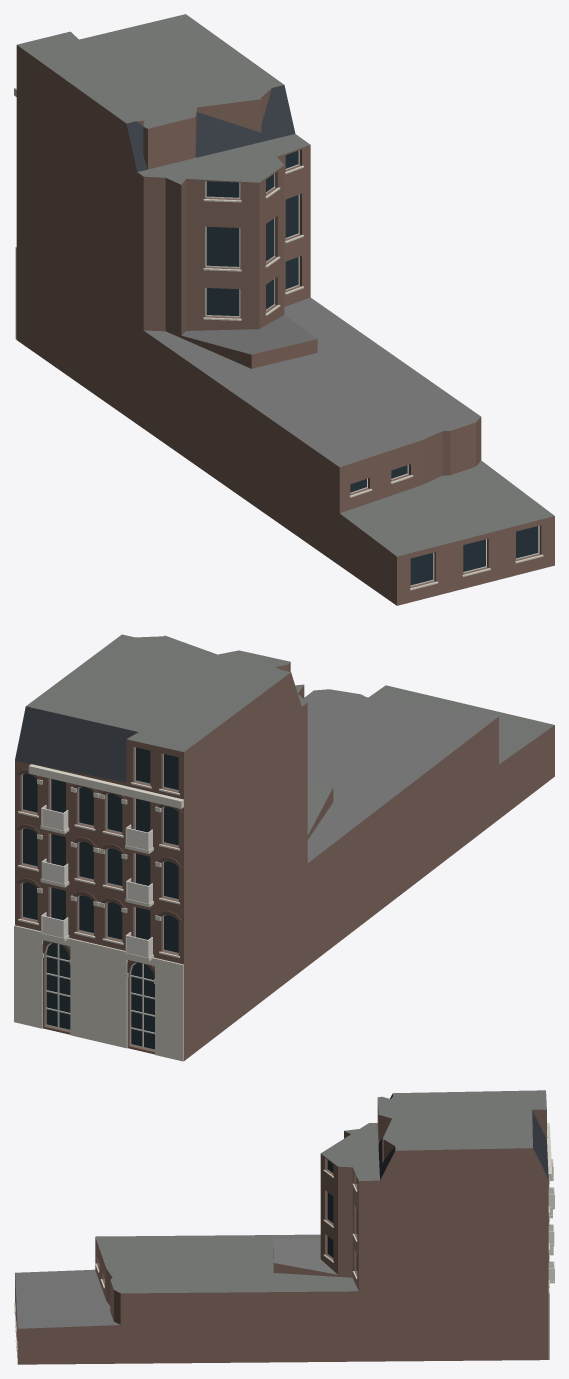
Rendered from recipe-large-haarlemmerweg-201-160400.glb.
The picture shows the model from 3 angles, top to bottom: view 1: azimuth 30°, elevation 25°; view 2: azimuth 150°, elevation 25°; view 3: azimuth 270°, elevation 25°; orthographic projection. The views are drawn at different scales.
Visible parts, largest first — view 1: haarlemmerweg-201-160400; view 2: haarlemmerweg-201-160400; view 3: haarlemmerweg-201-160400.
Boxes of the visible parts, <box> form: haarlemmerweg-201-160400: <box>14,14,554,605</box>; haarlemmerweg-201-160400: <box>14,634,554,1061</box>; haarlemmerweg-201-160400: <box>14,1090,554,1364</box>.
Size of the model in its own units: 10.86 by 17.73 by 40.73.
